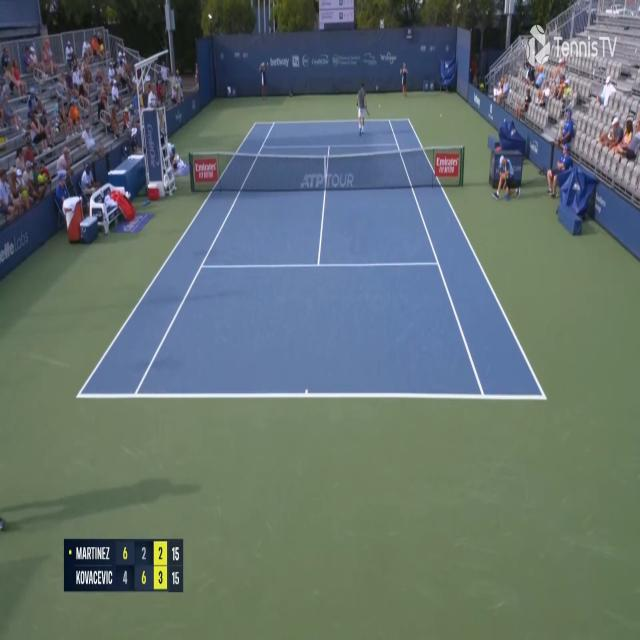tennis-player: (354, 77, 369, 136)
